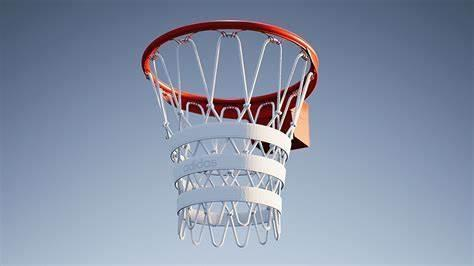rim: (142, 19, 320, 247)
